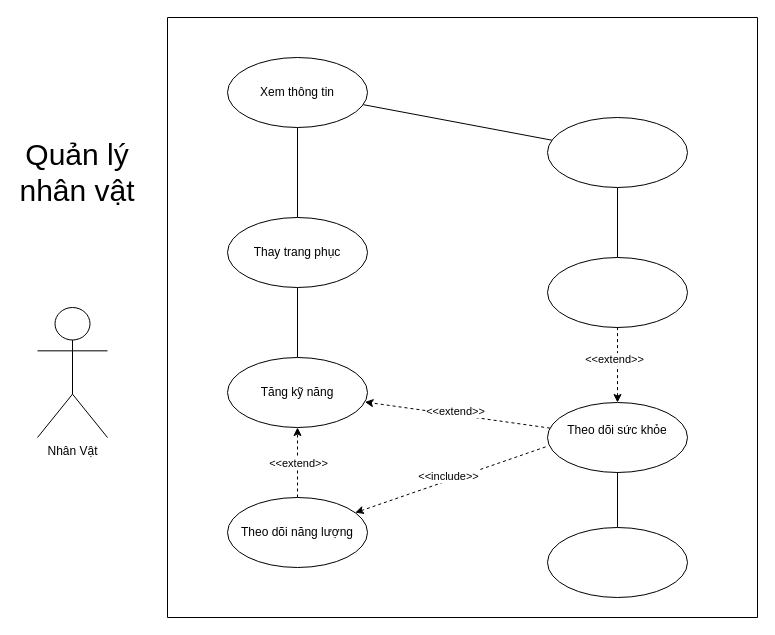
The diagram is 775 pixels wide and 635 high, and some of its shapes have lost their labels. Here are the shapes that lost their labels. From the top down, the centre of each, then its label:
At [617,152]: "Đổi tên".
At [617,292]: "Nâng cấp Level".
At [617,562]: "Nâng cấp Mối quan hệ".
